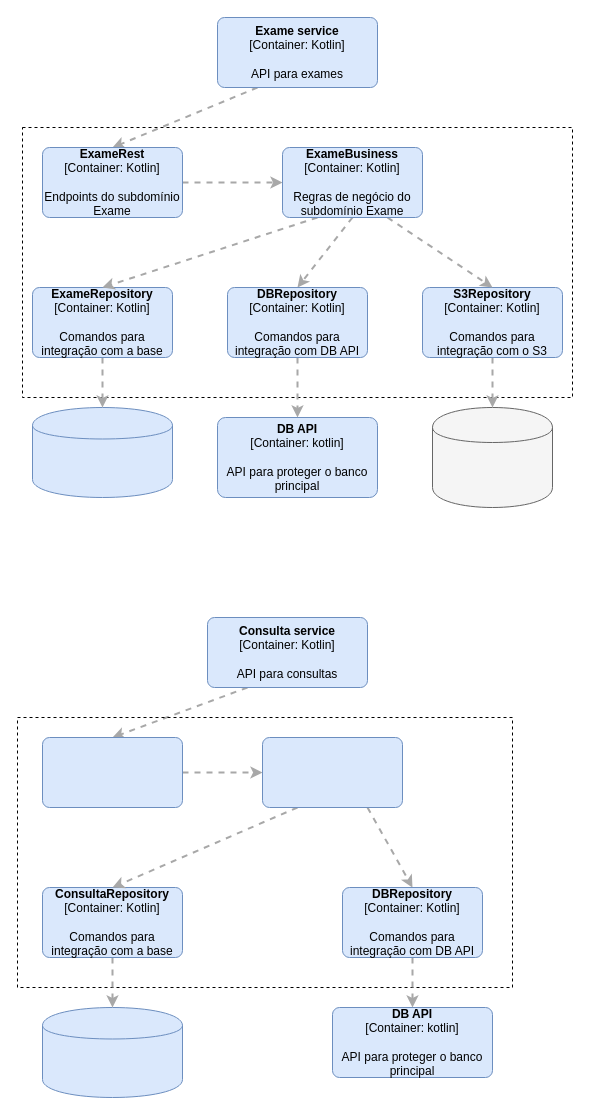
Some shapes in this 590 by 1119 pixel diagram are drawn without their labels. Each missing label, with the centre of its shape:
"ConsultaBusiness [Container: Kotlin ] Regras de negócio do subdomínio Consulta" belongs at point (332, 772).
"ConsultaRest [Container: Kotlin ] Endpoints do subdomínio Consulta" belongs at point (112, 772).
"Database [Container: MongoDB] Base especializa em exames" belongs at point (102, 452).
"Database [Container: Redis] Base especializada em consultas" belongs at point (112, 1052).
"Storage [Container: S3] Storage de imagens" belongs at point (492, 457).
